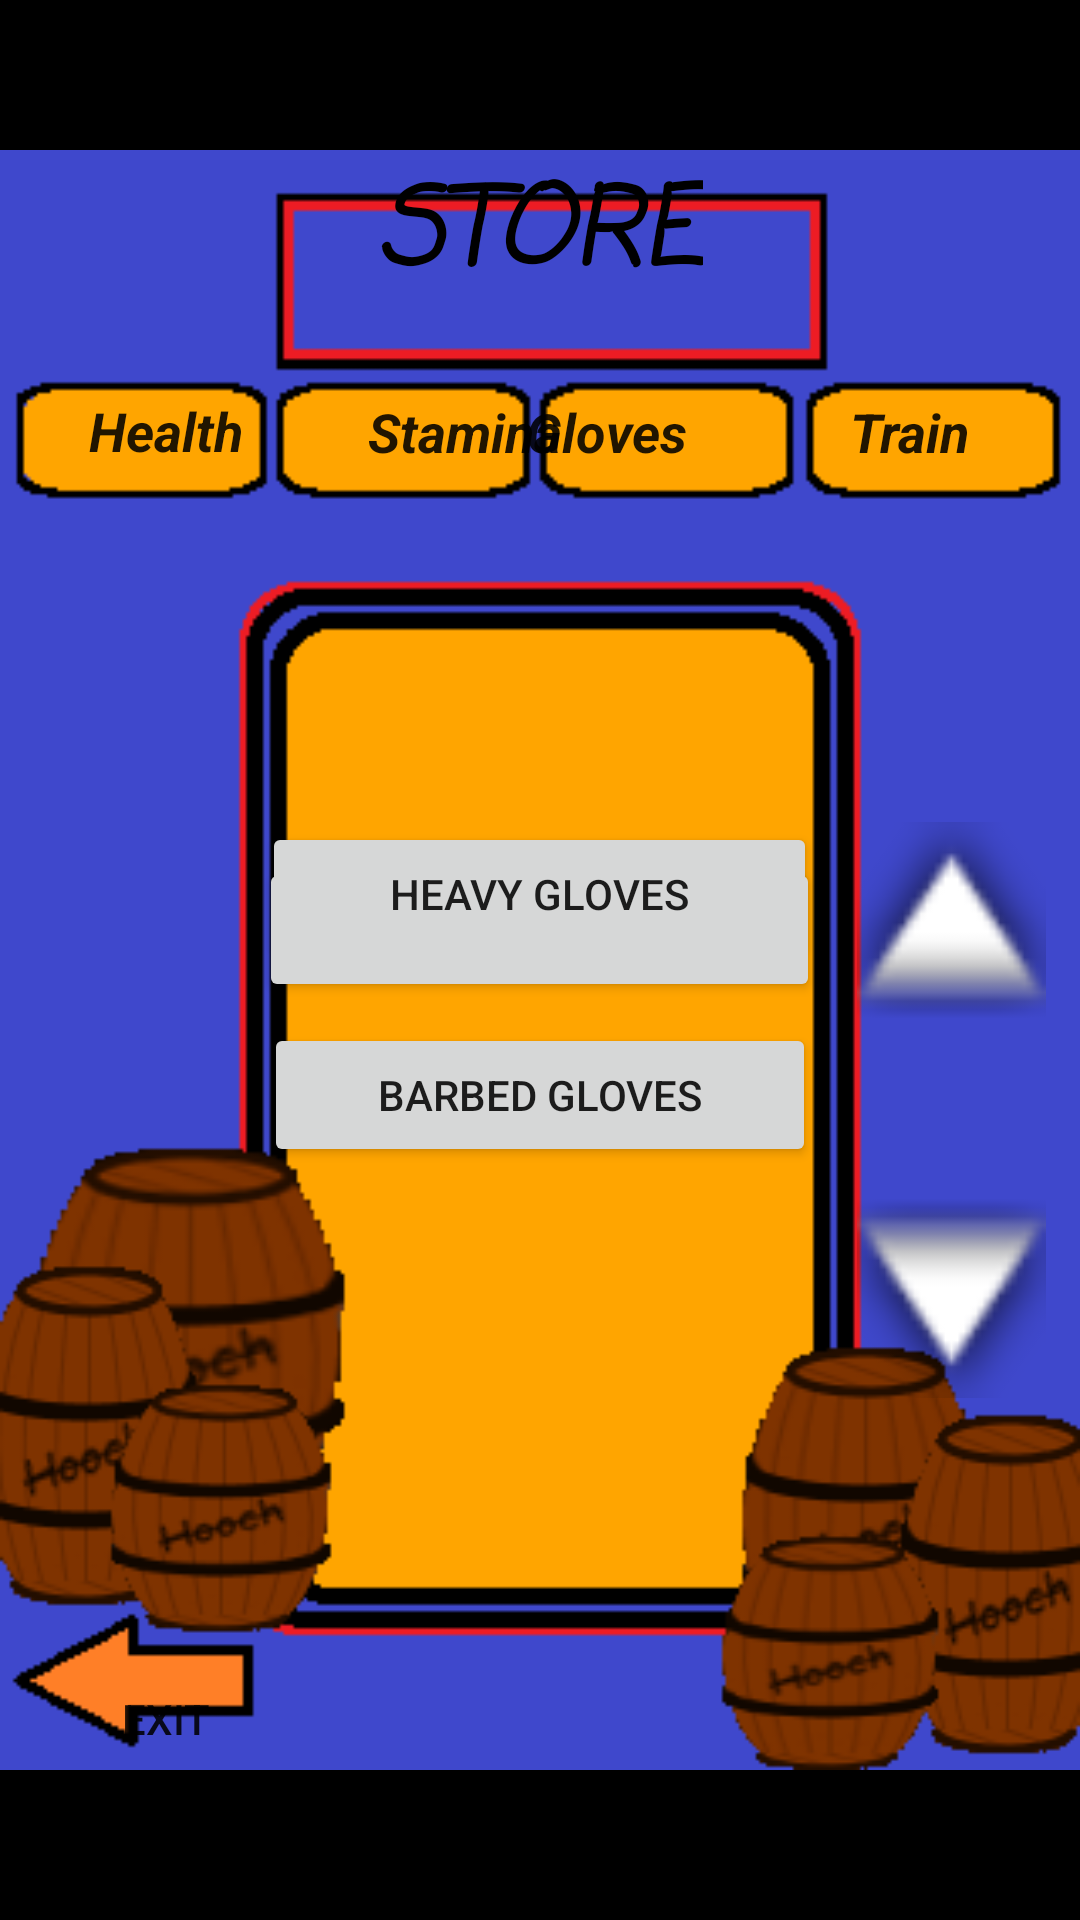

Where icons sit on this 1080 x 1920 app screen, as (x1, y1, x2, y2):
arrow down float: (857, 1194, 1046, 1398)
arrow up float: (857, 822, 1046, 1023)
